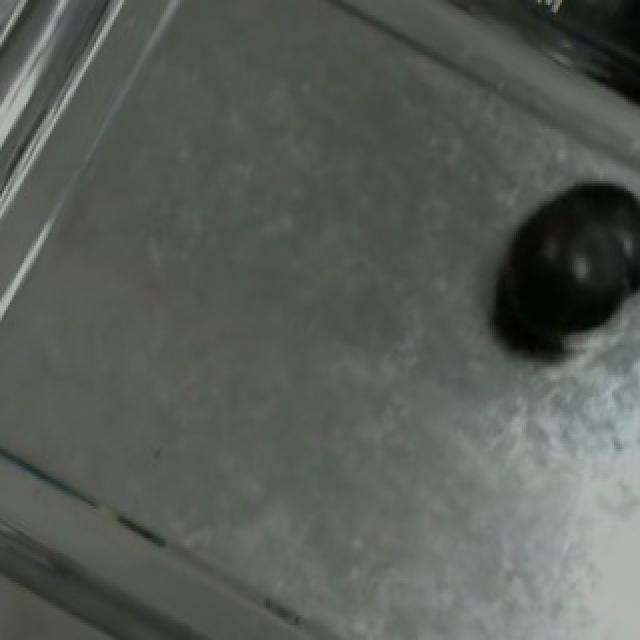Fruit: (478, 159, 640, 372)
